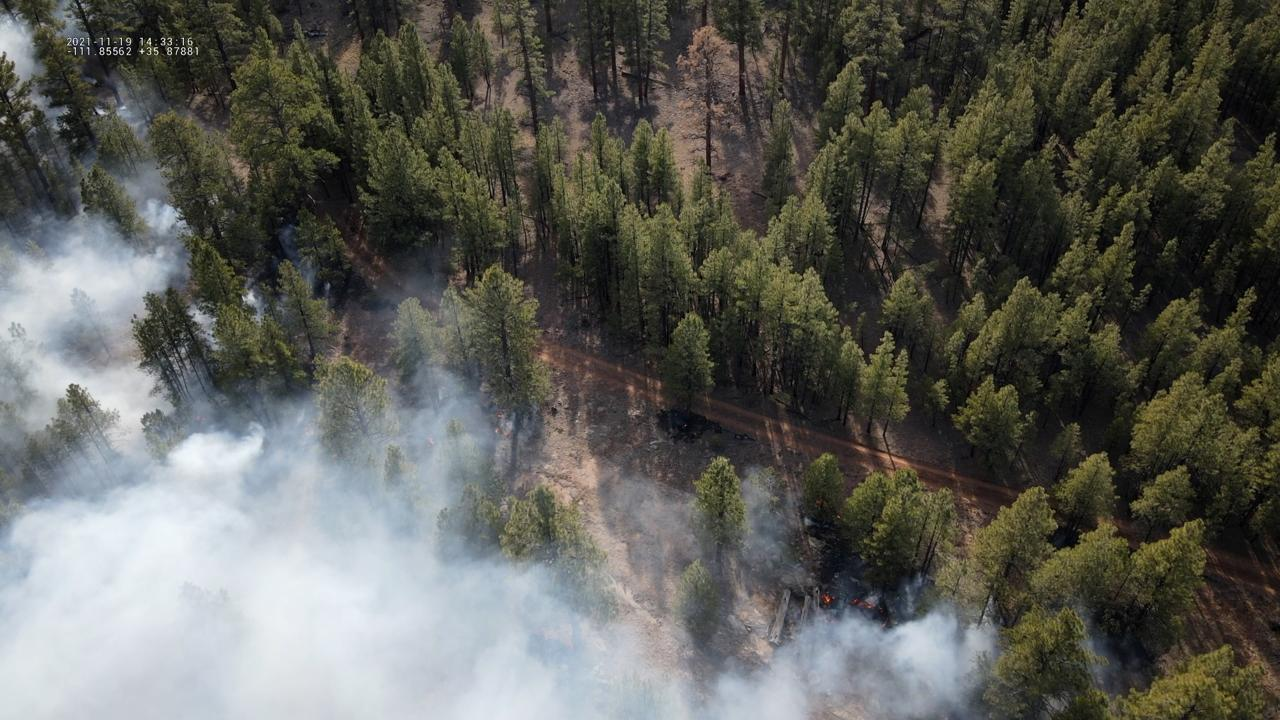fire: (850, 597, 875, 610), (820, 592, 835, 607)
smoke: (0, 0, 1125, 720)
